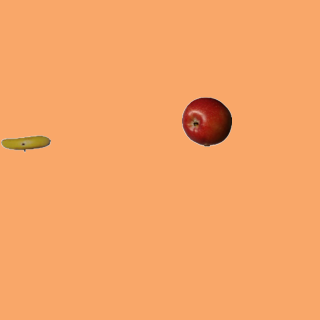Apple Braeburn: (181, 96, 231, 146)
Banana: (0, 118, 50, 168)
